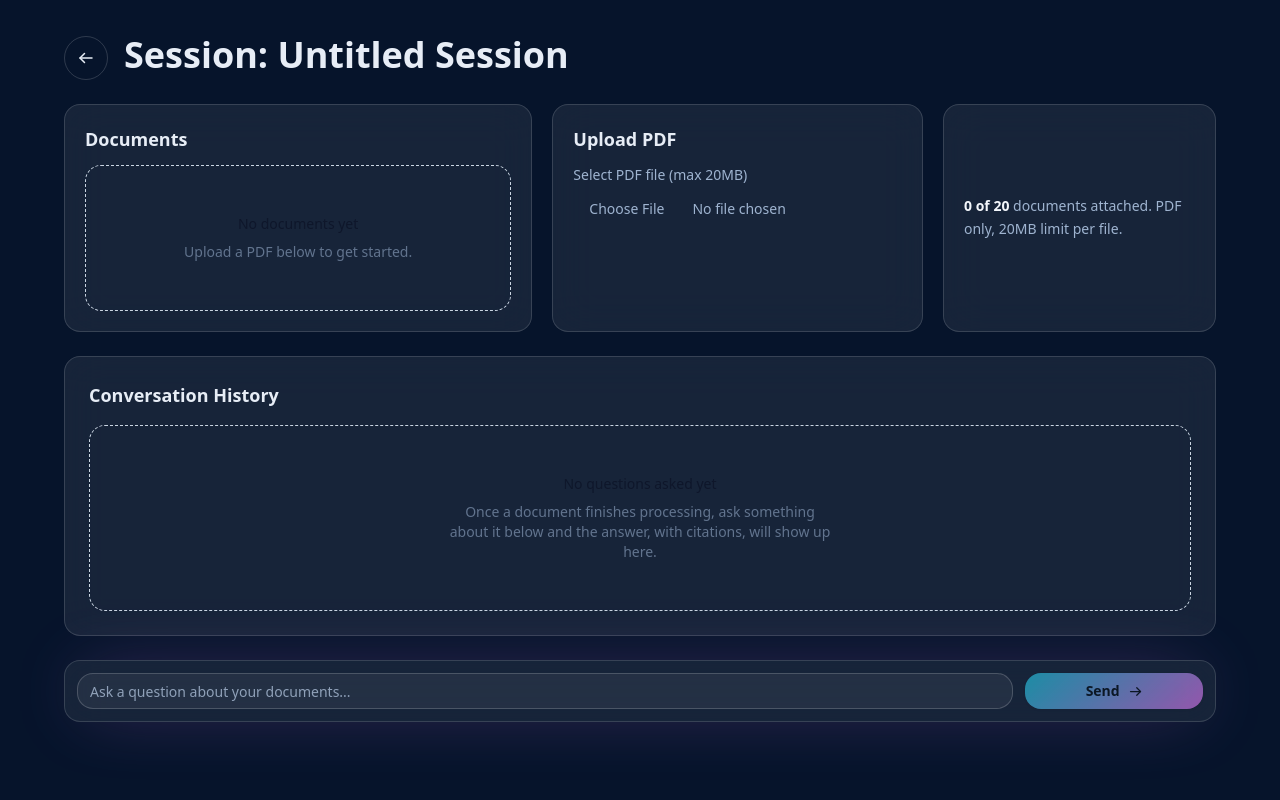
it: SessionsSessionid ask/history/citations › [AC-026] surfaces a clear inline error on a 502/503 Gemini failure and does not add a fake answer
The width and height of the screenshot is (1280, 800).
Type "Will this fail?" into the field with placeholder "Ask a question about your documents..." at (545, 691), box [77, 673, 1013, 709]
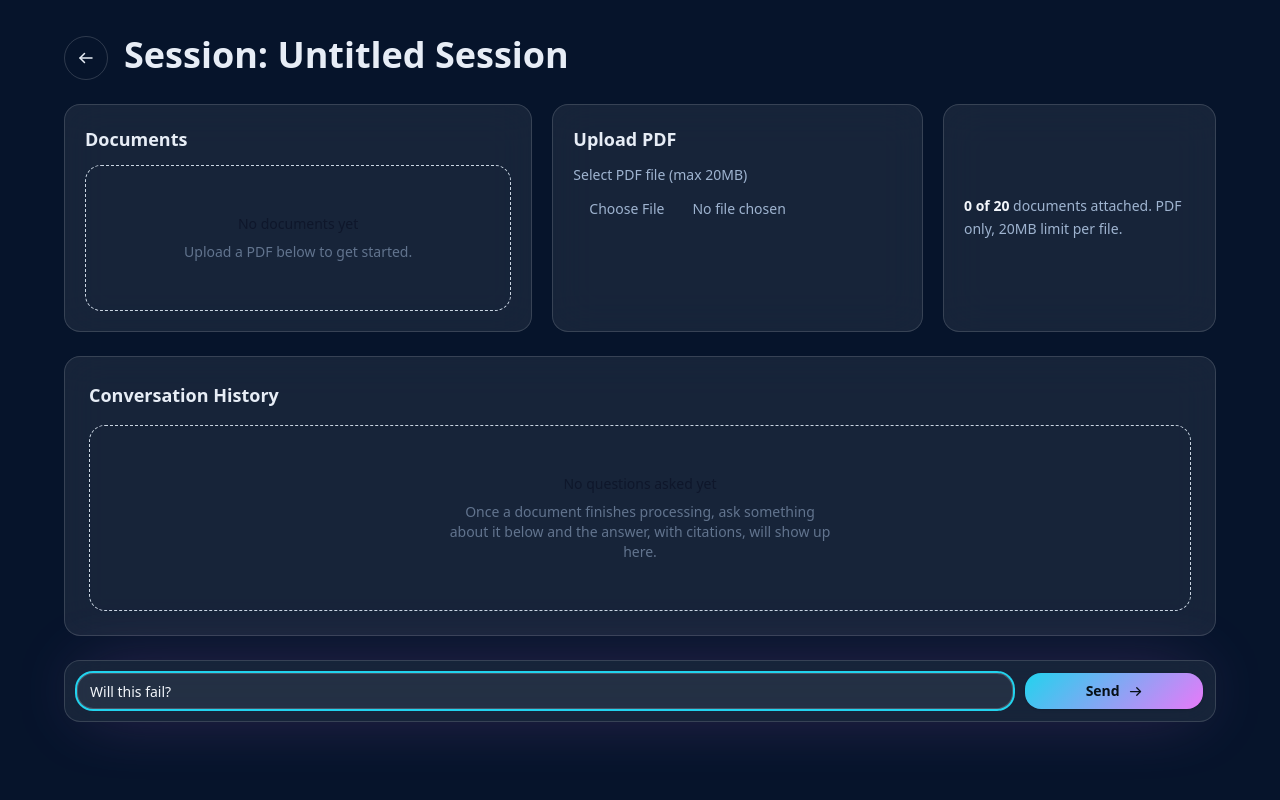
Click the button "Send" at (1114, 691), box [1025, 673, 1203, 709]
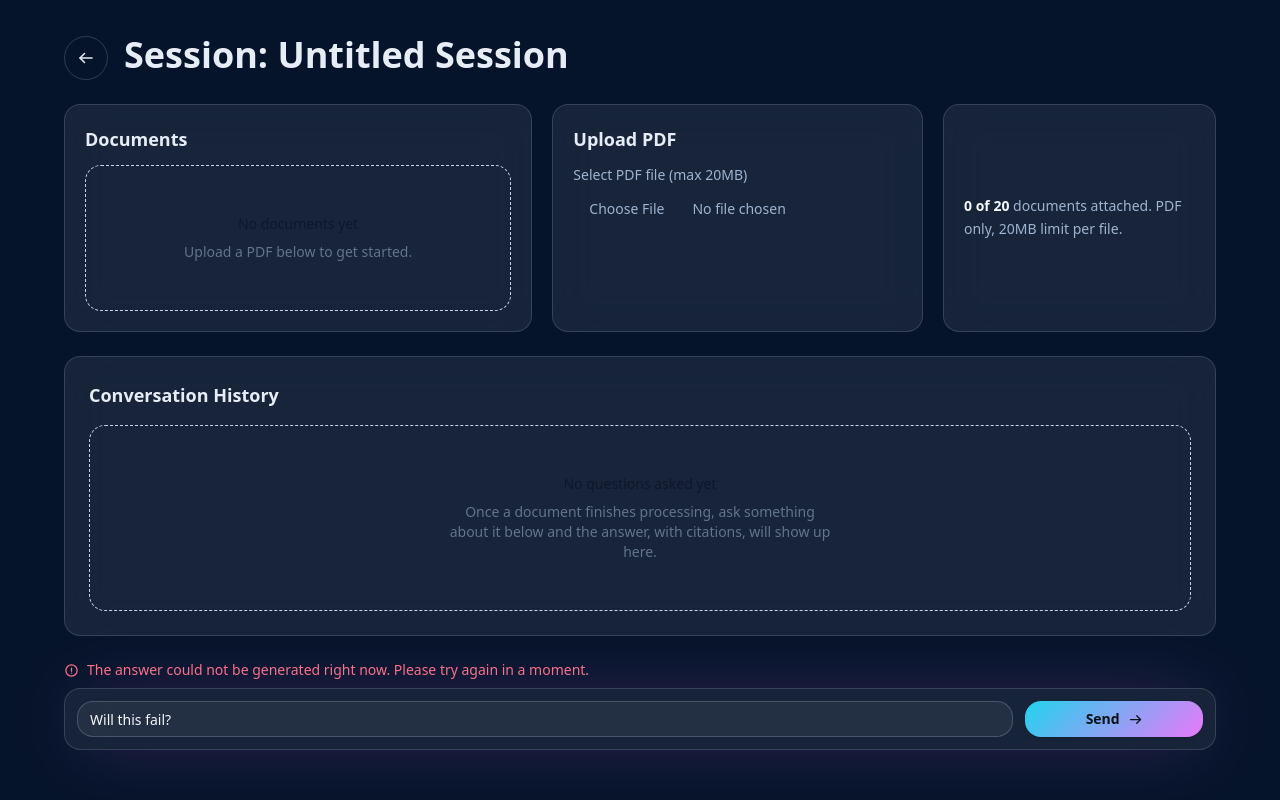
Expected: the text "The answer could not be generated right now. Please try again in a moment." is shown, [64, 660, 589, 679]
